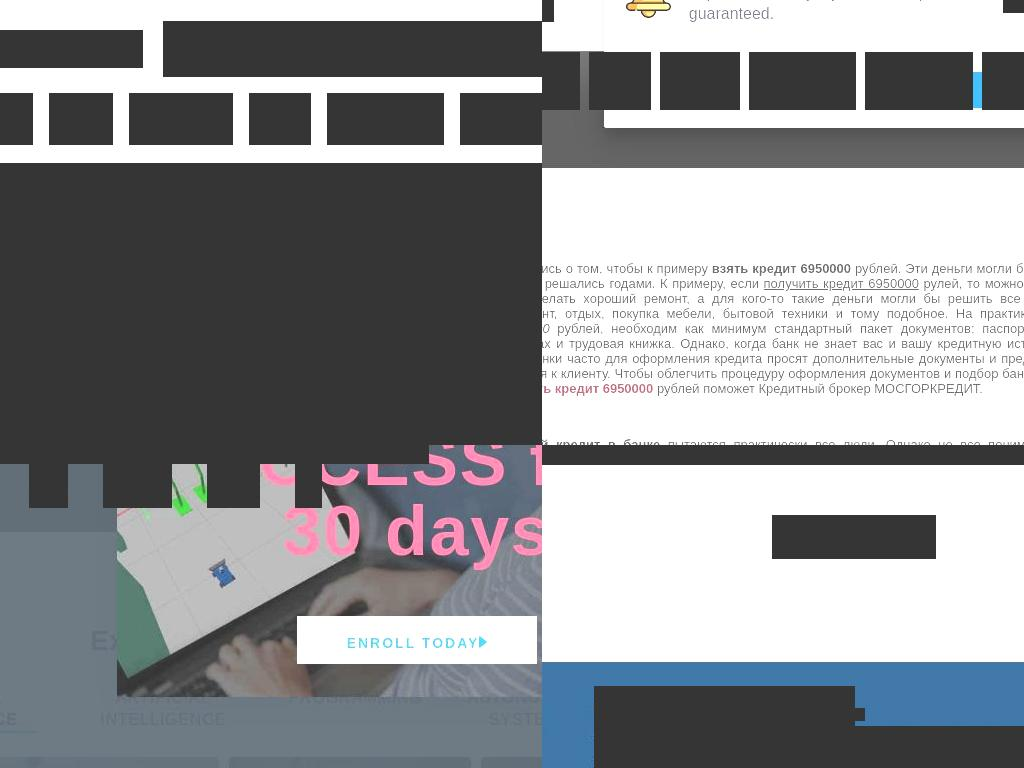button: (297, 616, 537, 664), (772, 515, 936, 559), (865, 52, 973, 110), (749, 52, 856, 110), (327, 93, 444, 145), (0, 30, 143, 68), (129, 93, 233, 145), (660, 52, 740, 110), (834, 72, 953, 108), (460, 93, 542, 145), (589, 52, 651, 110), (49, 93, 113, 145), (249, 93, 311, 145), (229, 757, 472, 768), (956, 72, 1024, 108), (982, 52, 1024, 110), (0, 757, 220, 768), (542, 52, 580, 110), (0, 93, 33, 145)
field: (163, 21, 542, 77)
heading: (33, 627, 542, 655), (594, 686, 855, 726), (542, 445, 1024, 465), (59, 687, 267, 731), (432, 687, 542, 731), (288, 687, 411, 709), (0, 687, 38, 731)
image: (0, 445, 542, 768), (0, 163, 542, 445), (0, 243, 542, 423), (542, 69, 1024, 91), (0, 30, 143, 68), (103, 463, 172, 508), (207, 463, 260, 508), (29, 463, 68, 508), (295, 463, 322, 508), (624, 0, 673, 18), (843, 708, 865, 721), (1003, 0, 1024, 13), (479, 636, 488, 648)
link: (542, 381, 653, 396)
text: (162, 445, 542, 616), (542, 321, 1024, 396), (542, 276, 1024, 321), (594, 726, 1024, 768), (542, 261, 1024, 291), (0, 445, 429, 464), (688, 0, 1024, 24), (865, 52, 973, 110), (749, 52, 856, 110), (653, 381, 984, 396), (660, 52, 740, 110), (589, 52, 651, 110), (542, 261, 712, 276), (982, 52, 1024, 110), (763, 276, 919, 291), (542, 52, 580, 110), (346, 635, 479, 651), (711, 261, 851, 276), (542, 437, 661, 445)
